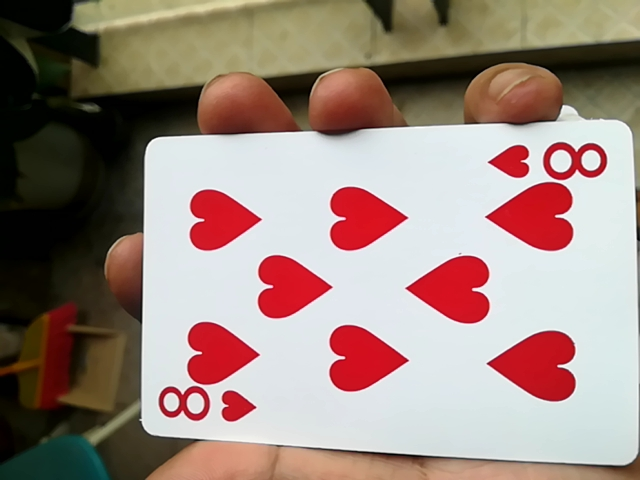hx 8: (131, 118, 625, 466)
